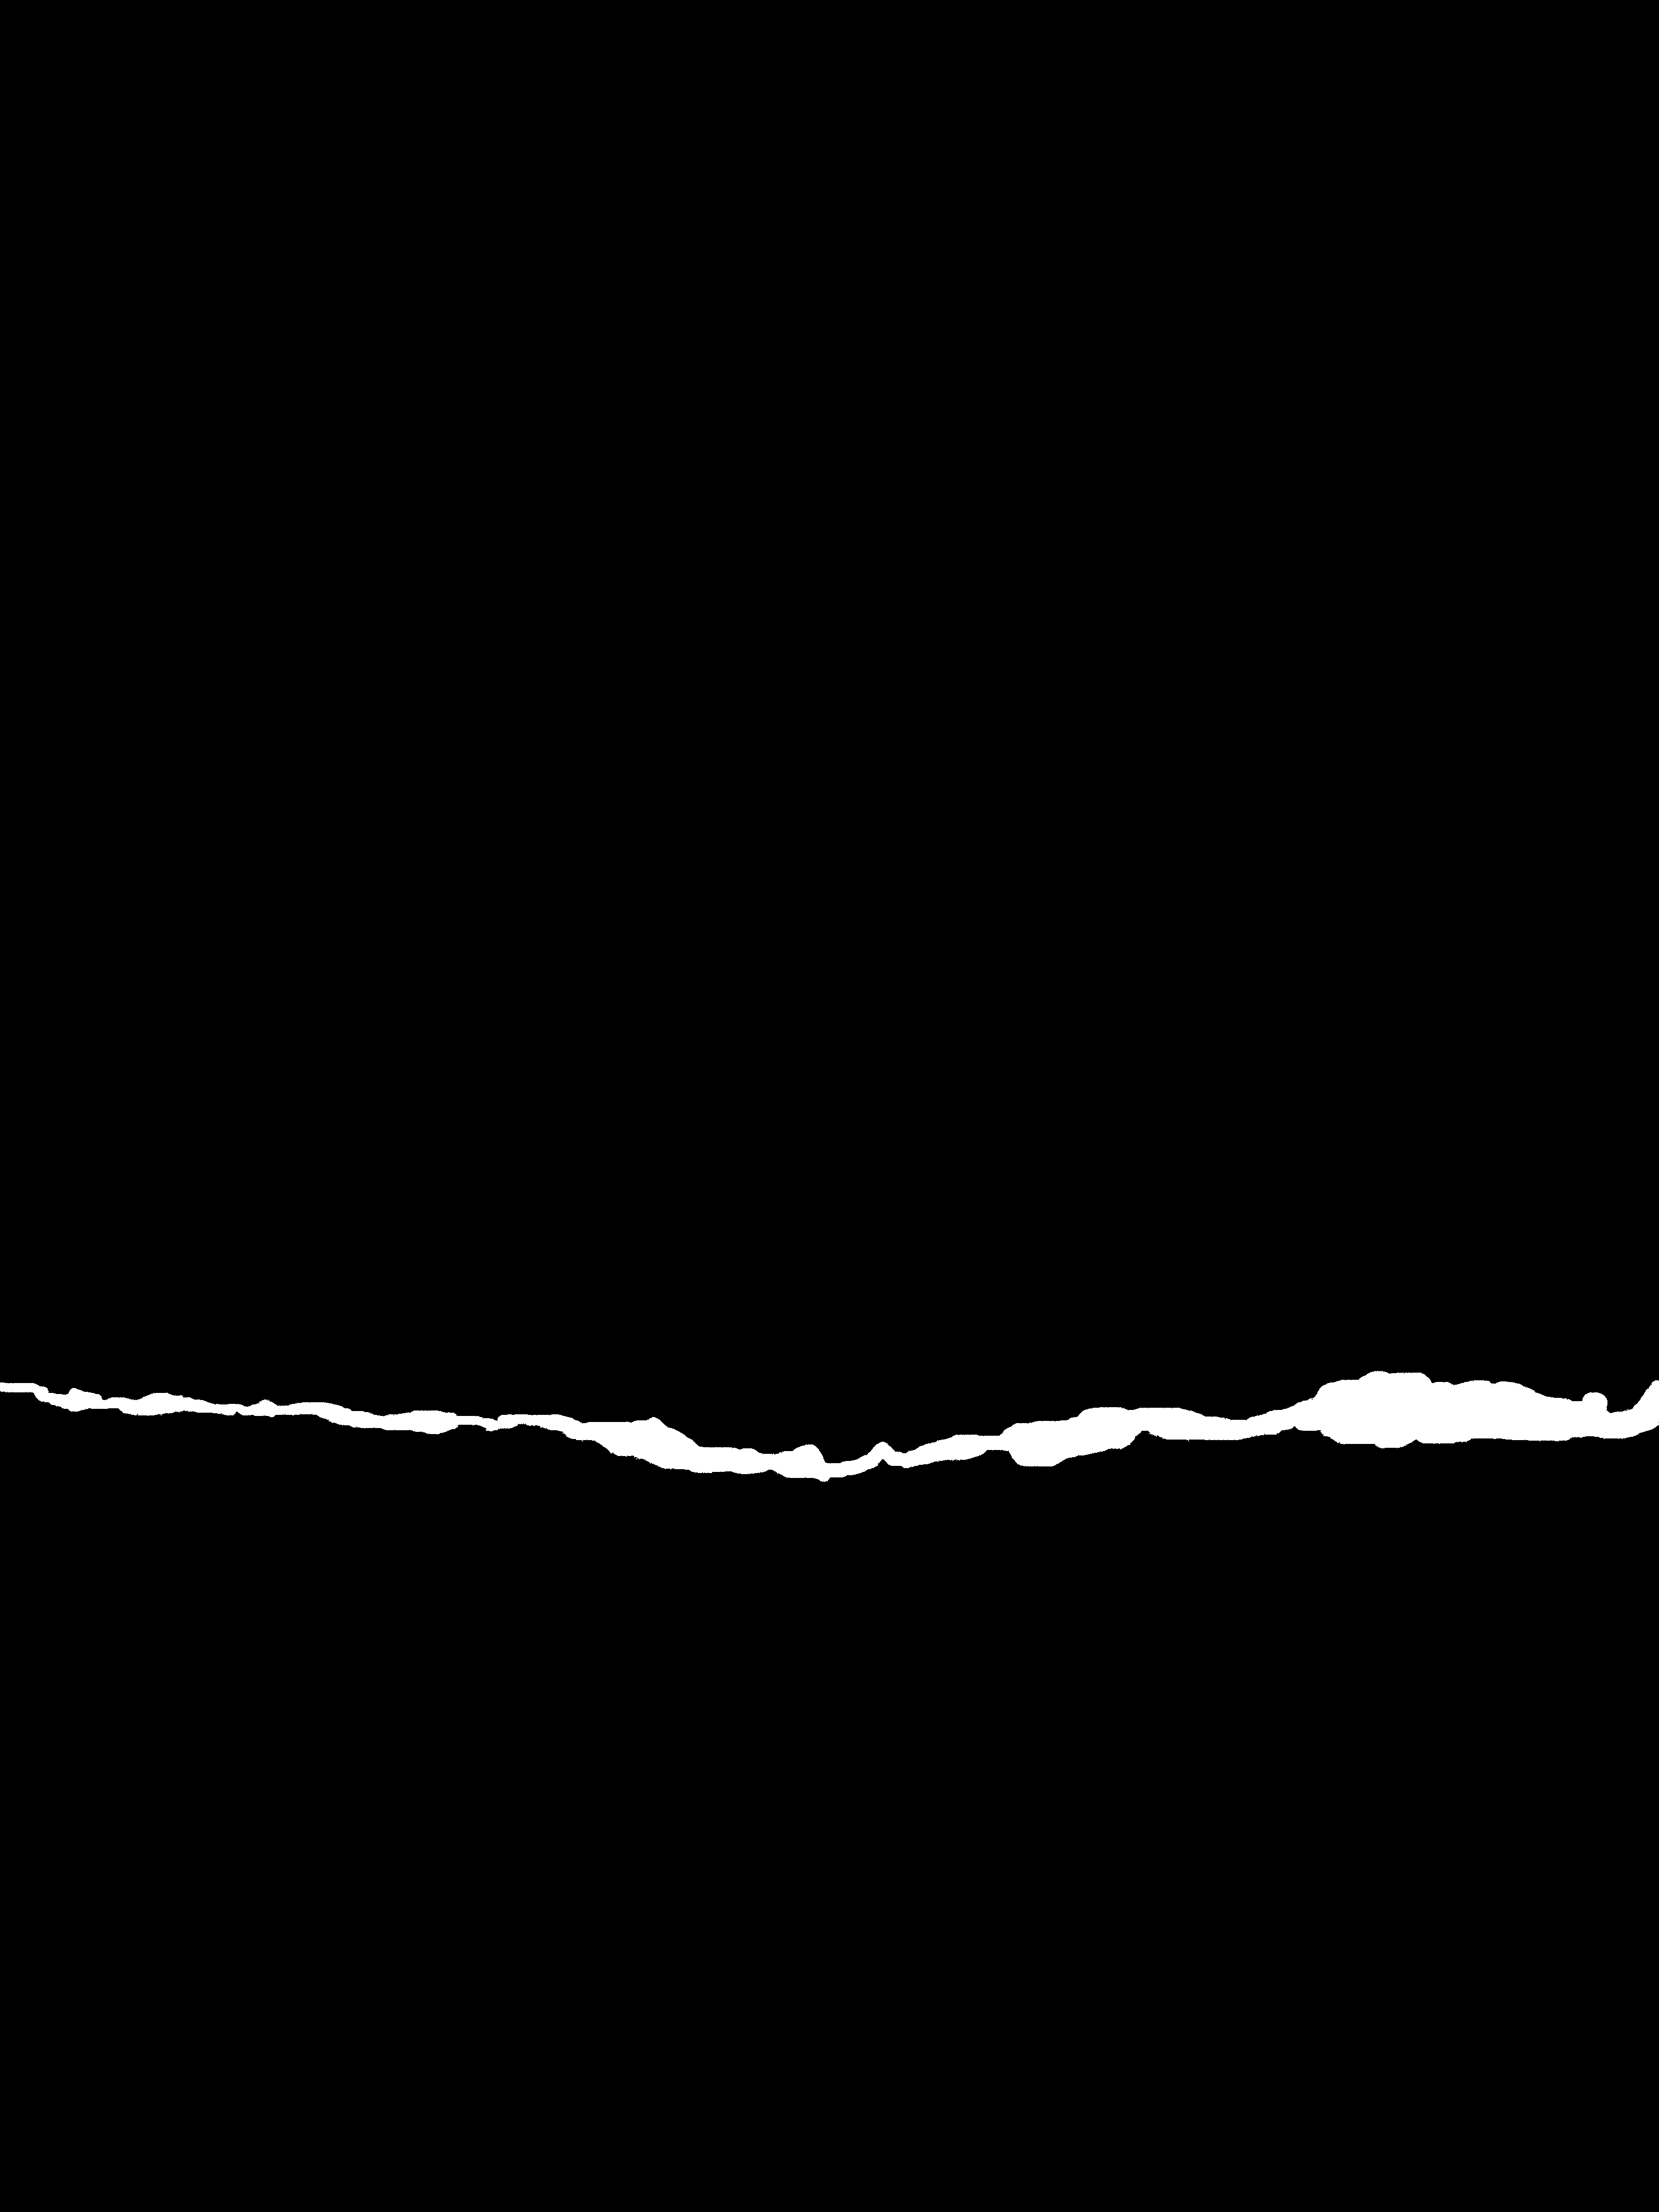Crack: (0, 1318, 1659, 1514)
